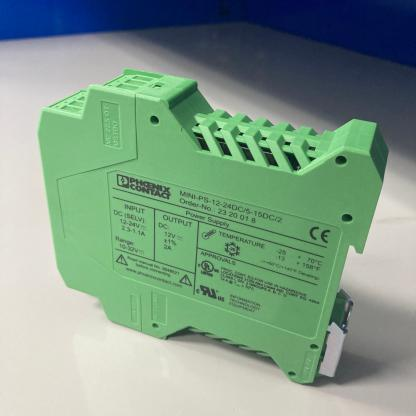SP0000011: (23, 55, 396, 409)
